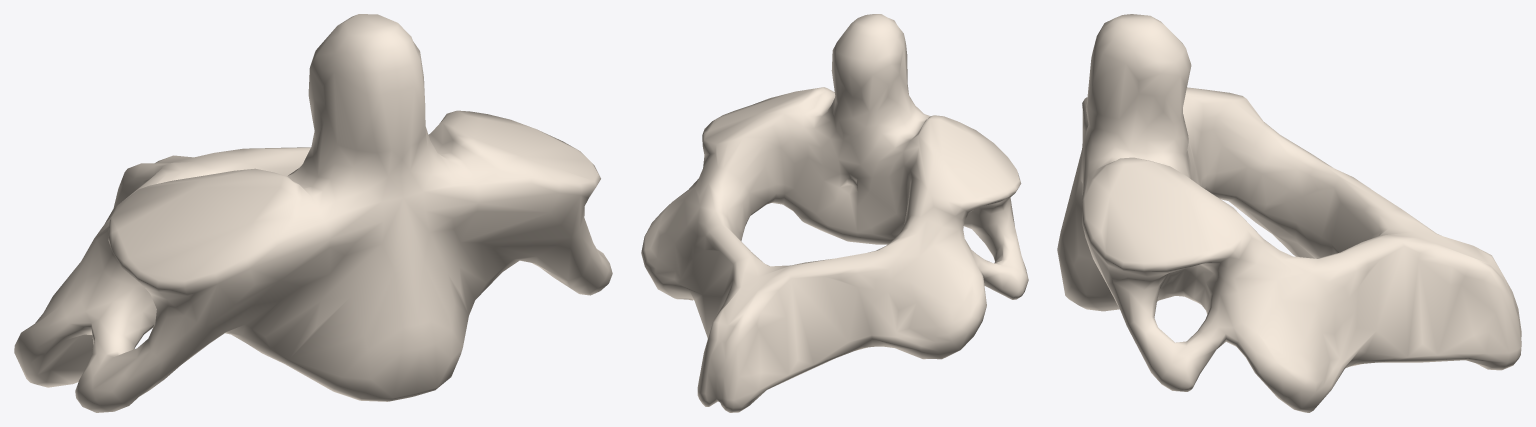
3 views of the same model, side by side, from view 1: azimuth 30°, elevation 25°; view 2: azimuth 150°, elevation 25°; view 3: azimuth 270°, elevation 25° (orthographic). The views are drawn at different scales.
Parts seen in each view (by area): view 1: Axis (C2); view 2: Axis (C2); view 3: Axis (C2).
Boxes of the visible parts, x1,y1,x2,y2 form: Axis (C2): [14, 14, 612, 412]; Axis (C2): [641, 14, 1028, 412]; Axis (C2): [1057, 14, 1521, 412].
Size of the model in its own units: 0.0533 by 0.0418 by 0.0516.
